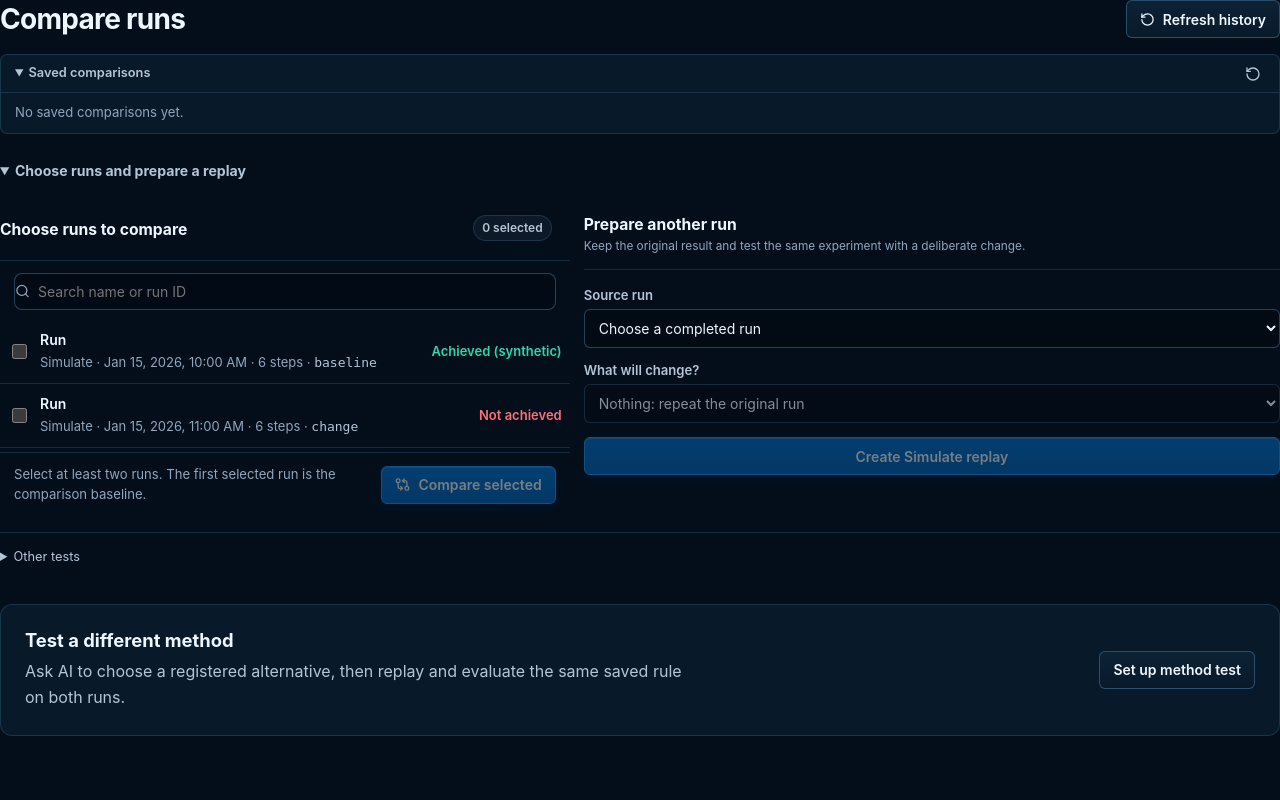
Test case: discards a late comparison after selection changes and never exposes its detector export
Expected: the heading "Compare runs" is shown, x1=0 y1=2 x2=185 y2=36
Click the 1st checkbox at (20, 351), box x1=12 y1=344 x2=27 y2=359
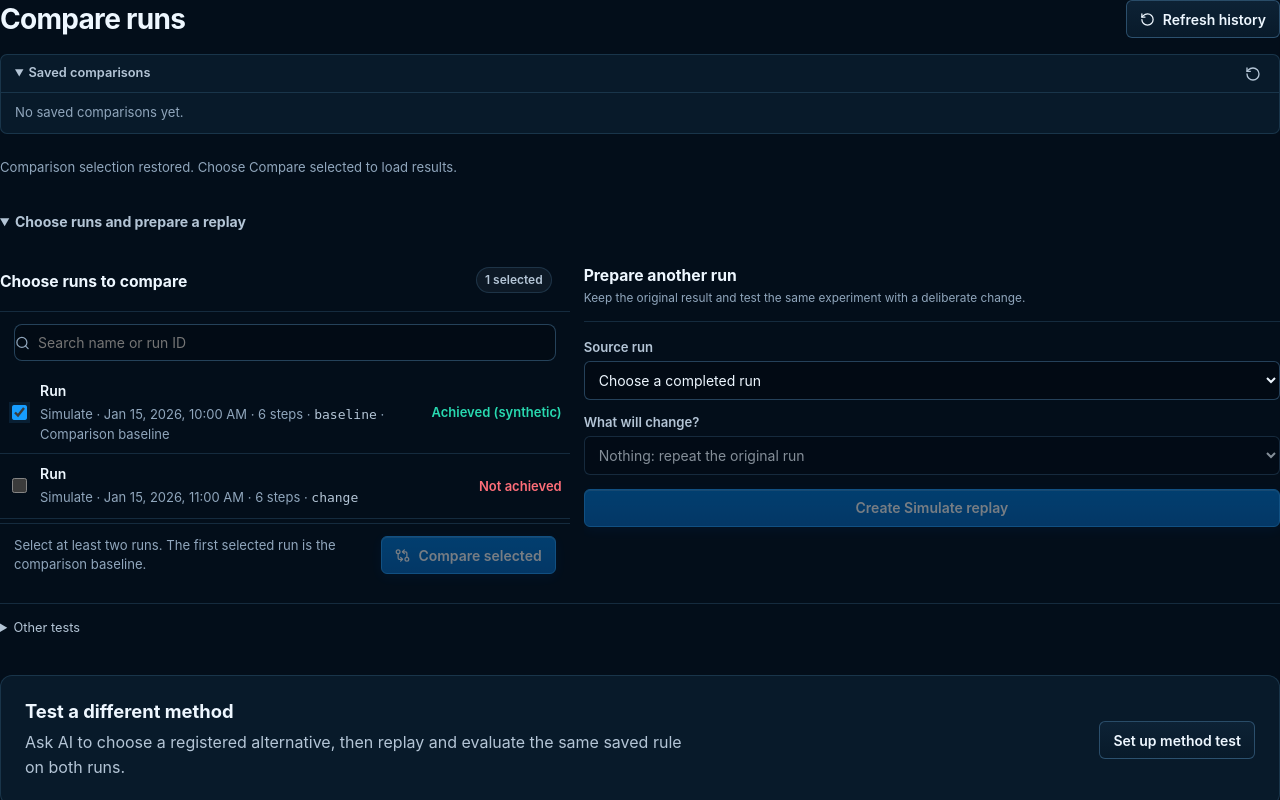
Click the 2nd checkbox at (20, 486), box x1=12 y1=478 x2=27 y2=493
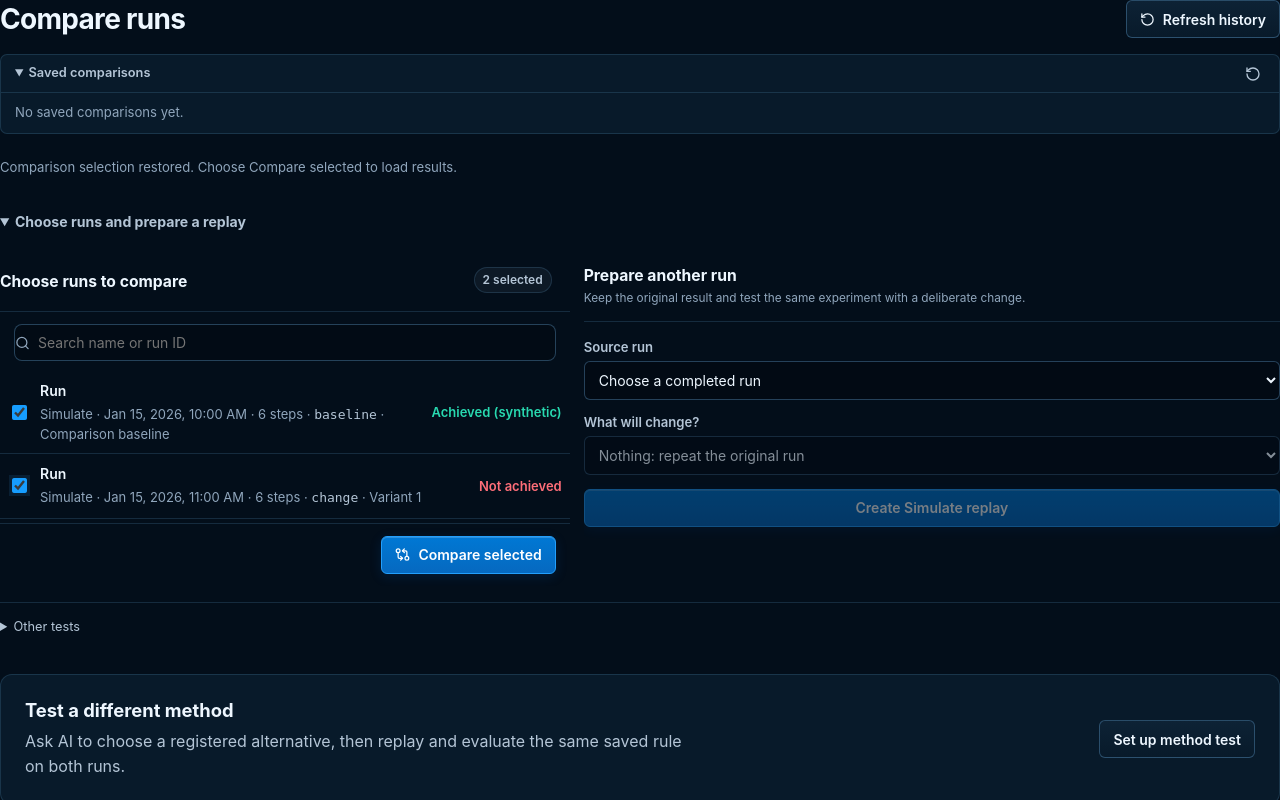
Click the button "Compare selected" at (469, 554), box x1=381 y1=536 x2=556 y2=574
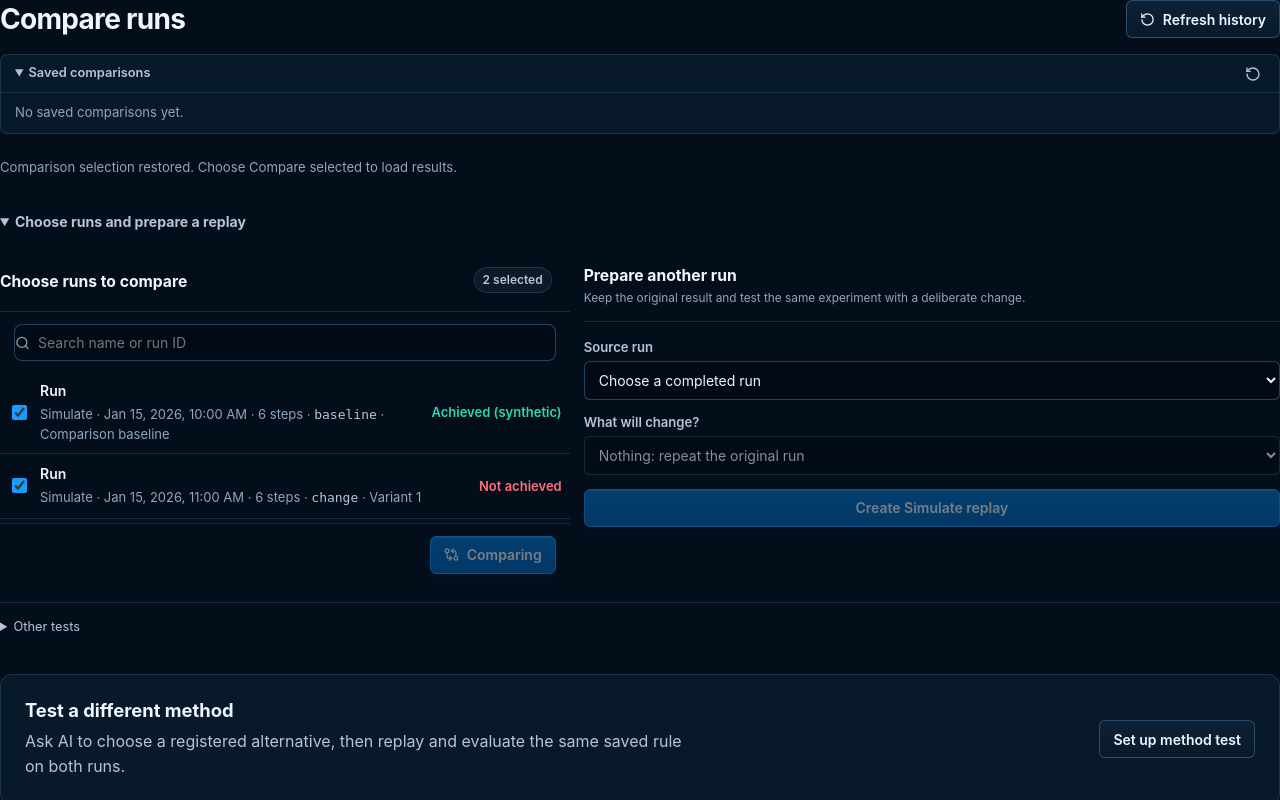
Click the 1st checkbox at (20, 412), box x1=12 y1=405 x2=27 y2=420
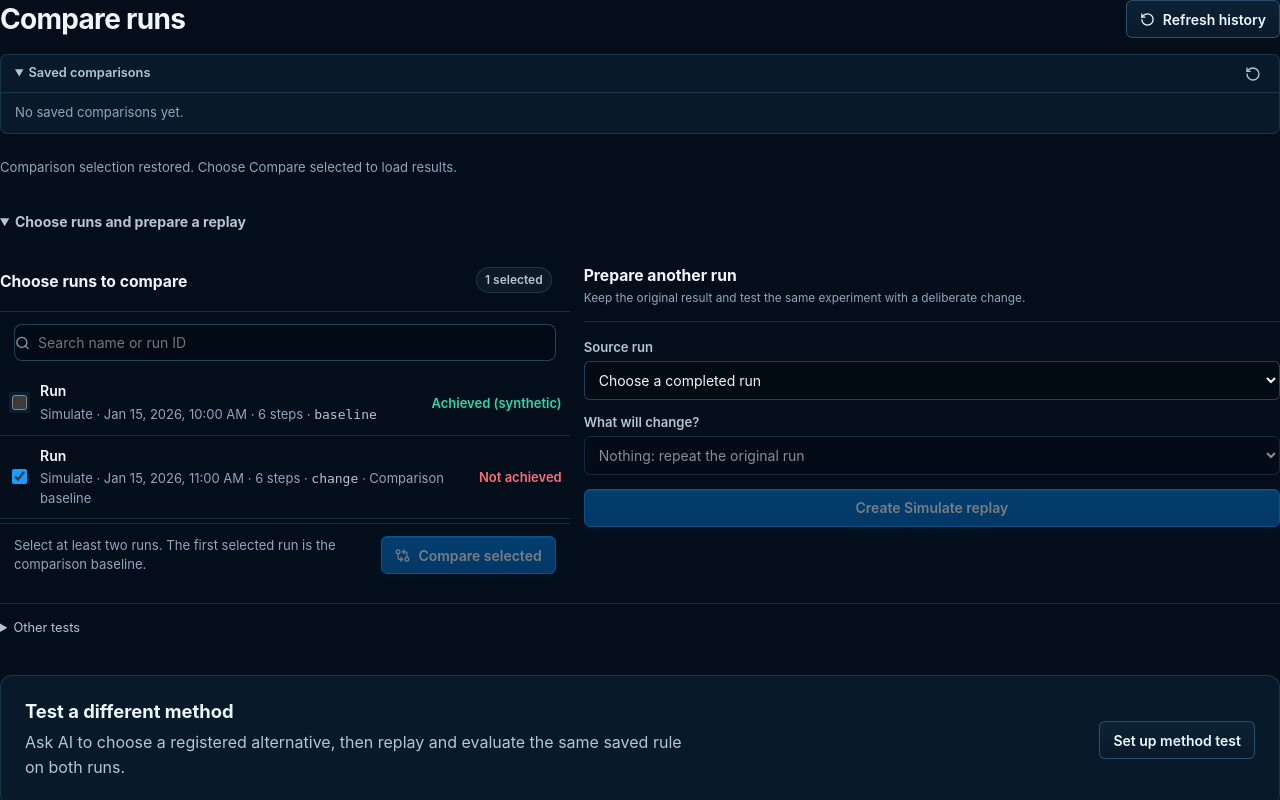
Expected: the button "Compare selected" is disabled, x1=381 y1=536 x2=556 y2=574
Expected: the text "Select at least two runs" is shown, x1=14 y1=536 x2=336 y2=572
